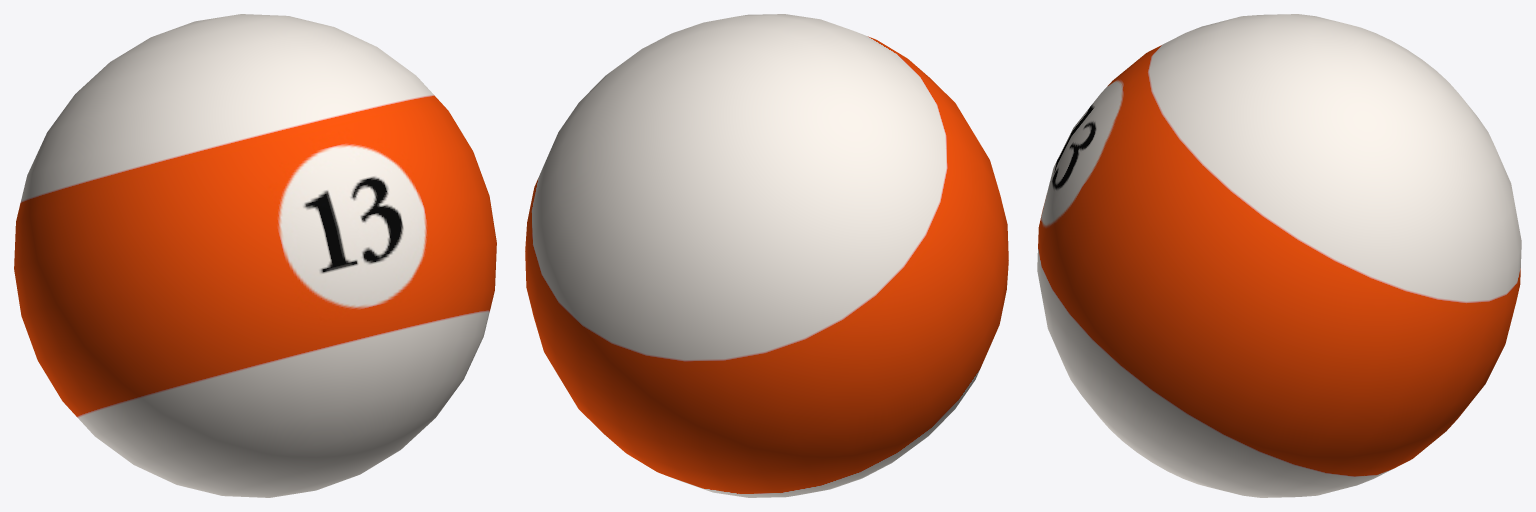
Rendered from ball13.obj.
3 views of the same model, side by side, from view 1: azimuth 30°, elevation 25°; view 2: azimuth 150°, elevation 25°; view 3: azimuth 270°, elevation 25° (orthographic).
Visible parts, largest first — view 1: Ball13_Mesh.006; view 2: Ball13_Mesh.006; view 3: Ball13_Mesh.006.
Part boxes in pixels (x1=…): Ball13_Mesh.006: x1=14, y1=14, x2=496, y2=497; Ball13_Mesh.006: x1=525, y1=14, x2=1008, y2=497; Ball13_Mesh.006: x1=1037, y1=14, x2=1521, y2=497.
Size of the model in its own units: 0.9617 by 0.9597 by 0.9597.
Materials: 1 (1 with a texture image).
